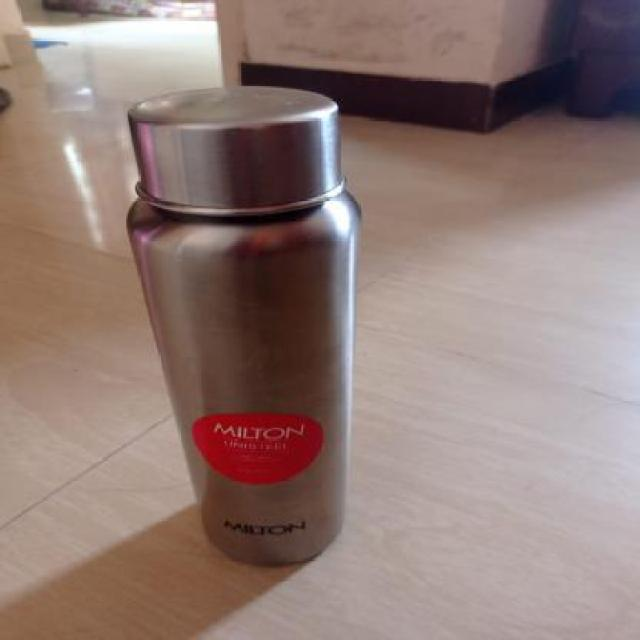bottle: (119, 76, 367, 577)
